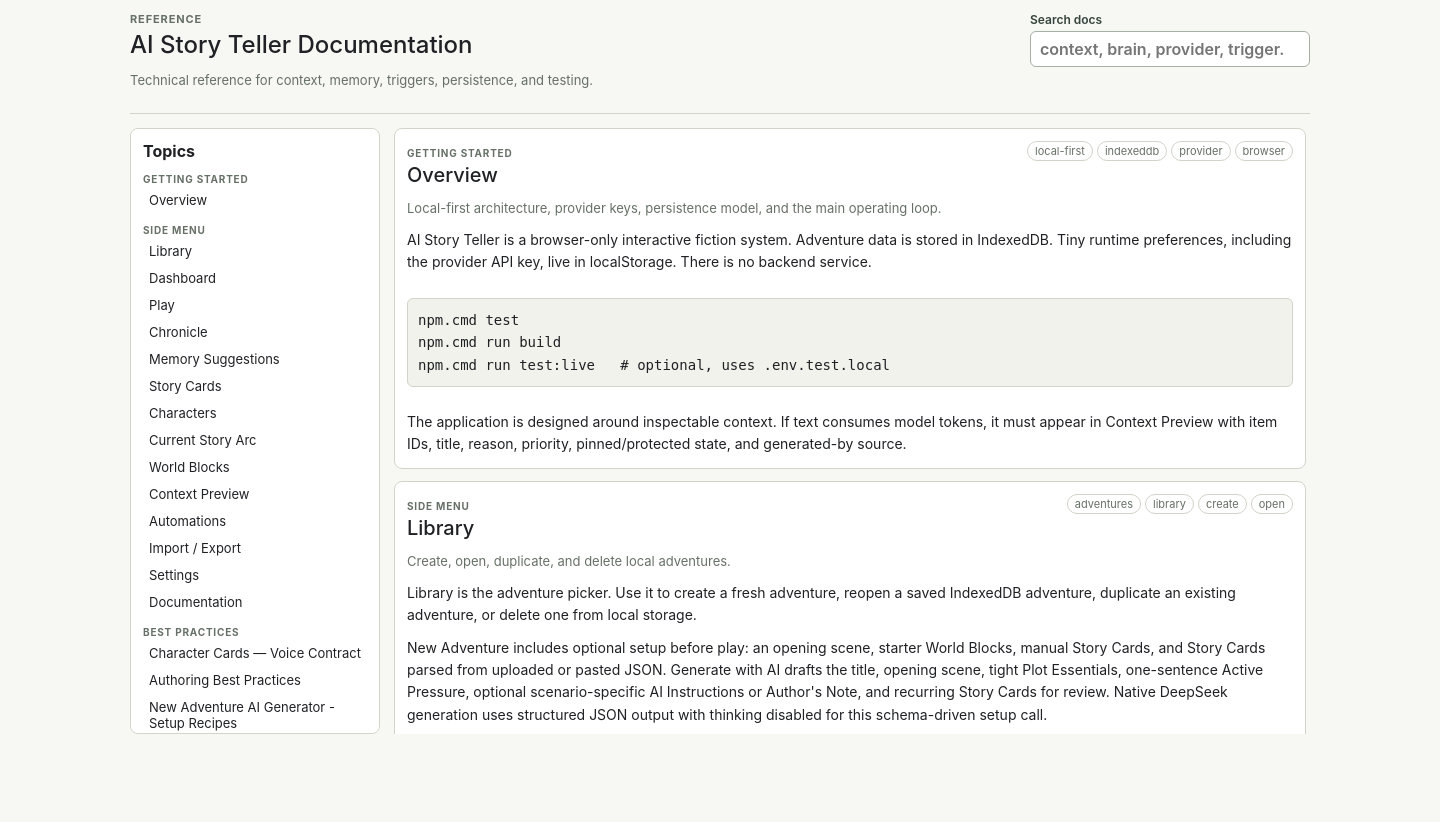
HelpPage documentation UI › shows technical documentation topics and filters them with search
Expected: the heading "AI Story Teller Documentation" is shown, [130,30,472,59]
Type "mutation" into the search field labelled "Search docs" at {"x": 1170, "y": 49}, box [1030,31,1310,67]
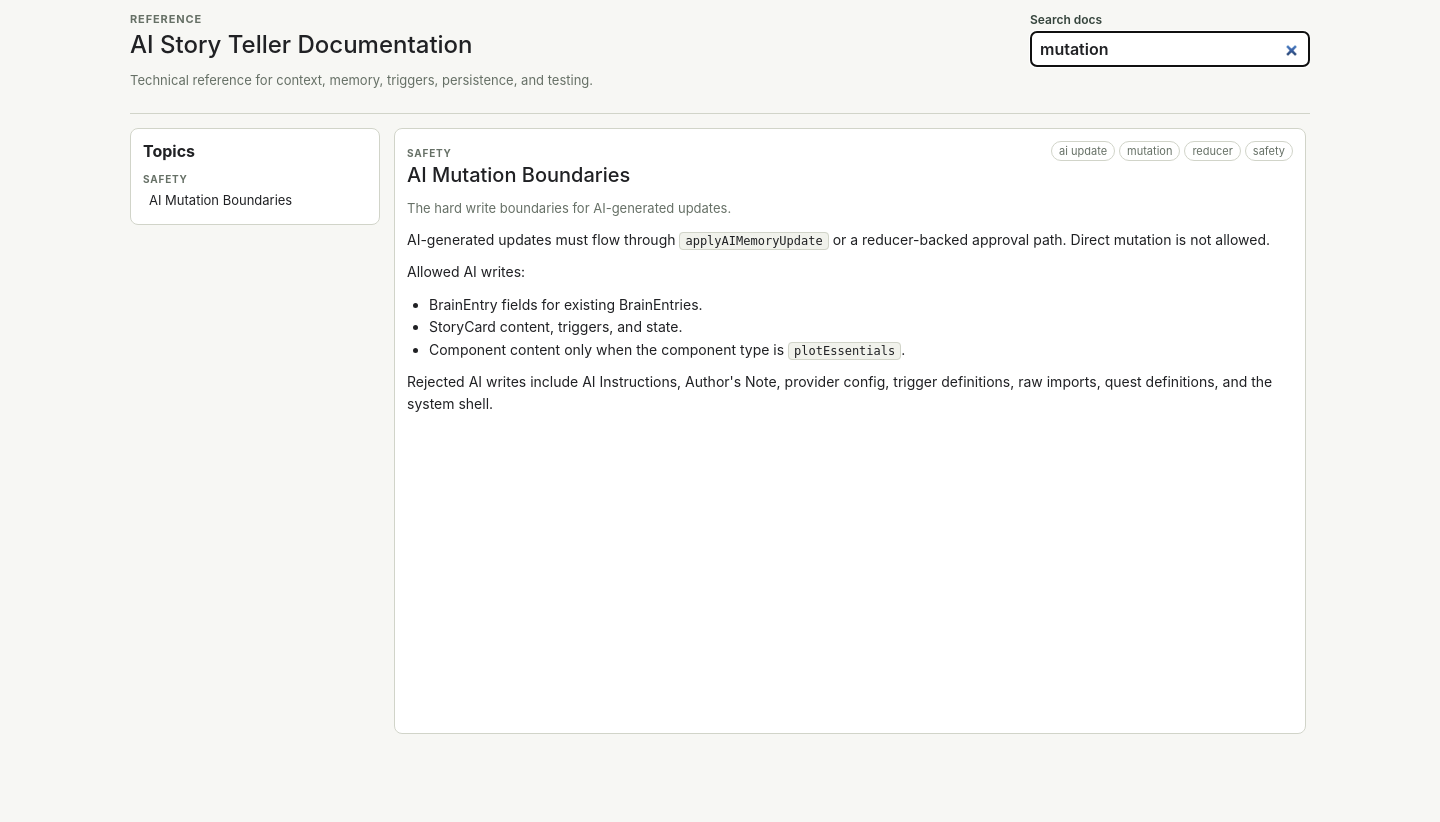
Result: the link "AI Mutation Boundaries" is shown at [149,192,292,208]
